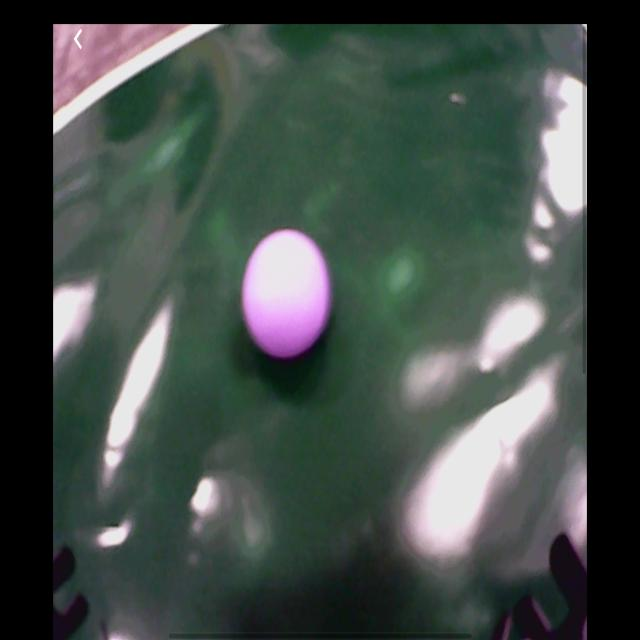ball: (240, 228, 333, 360)
